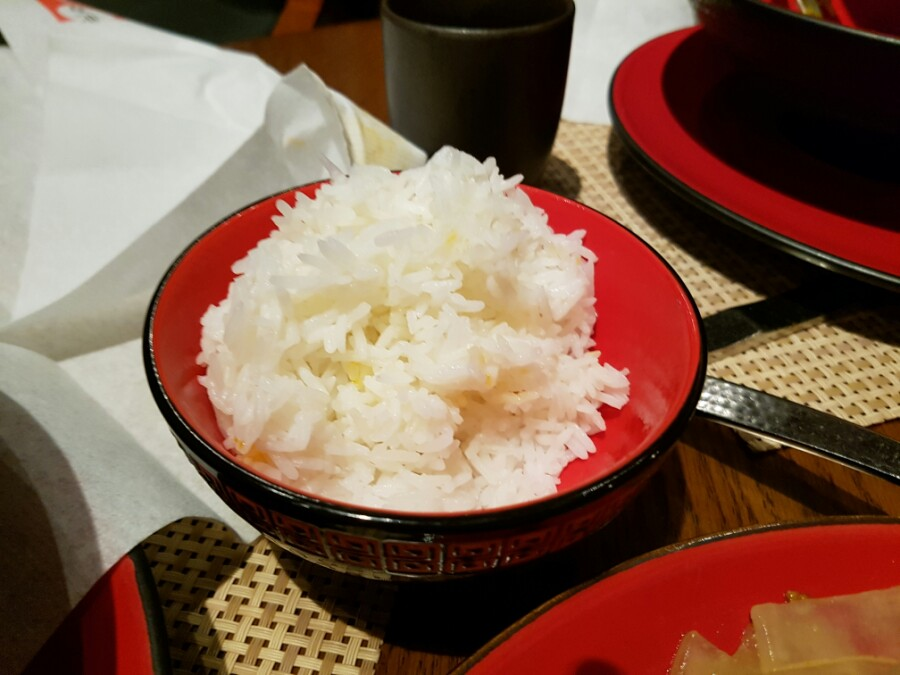plain rice: (257, 216, 559, 432)
